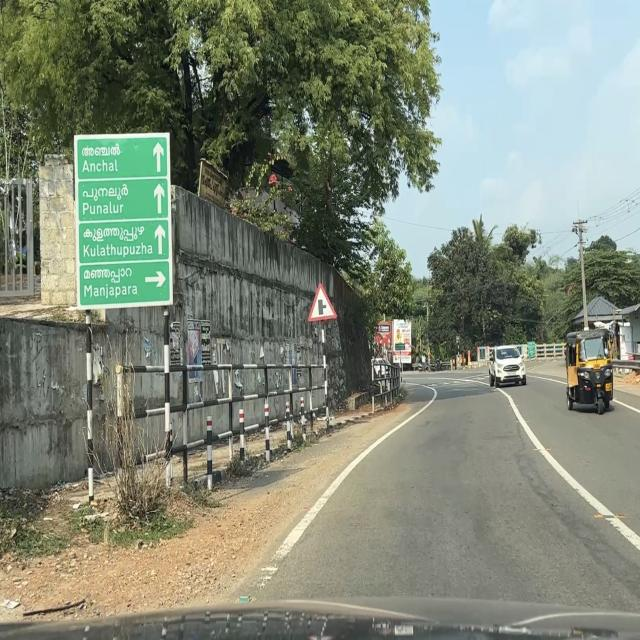GENERAL: (73, 130, 175, 312)
SIDE_ROAD_RIGHT: (308, 281, 338, 323)
